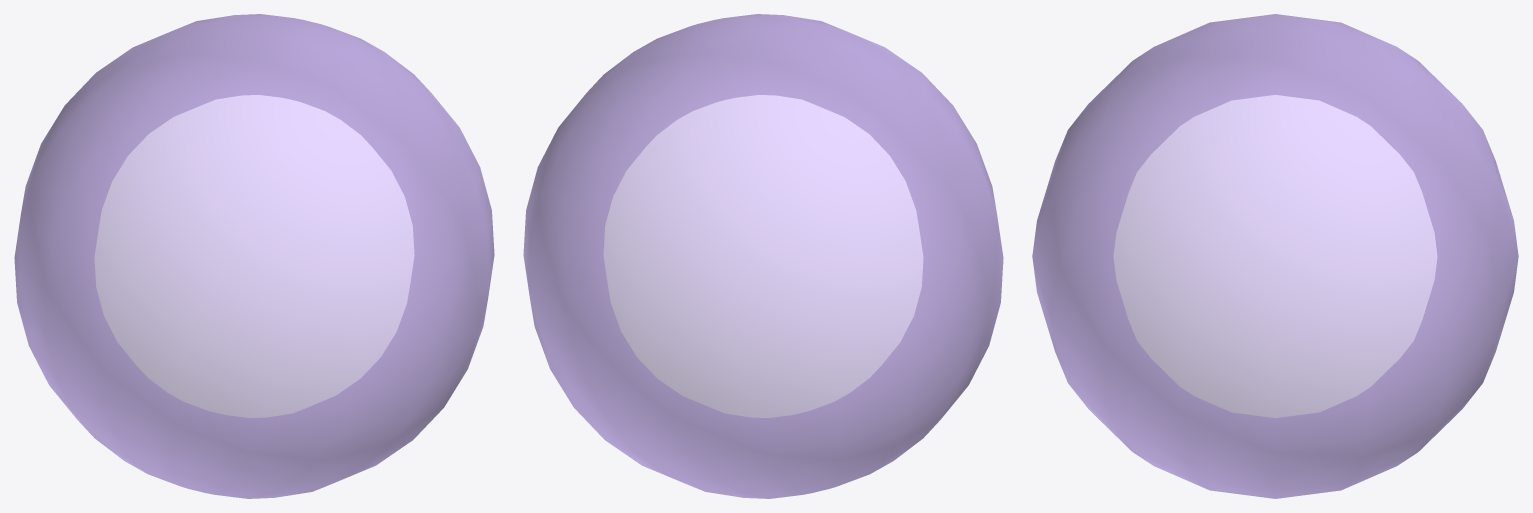
Rendered from tube1orb4.glb.
The picture shows the model from 3 angles, left to right: view 1: azimuth 30°, elevation 25°; view 2: azimuth 150°, elevation 25°; view 3: azimuth 270°, elevation 25°; orthographic projection.
Parts seen in each view (by area): view 1: orboutside4, orbinside4; view 2: orboutside4, orbinside4; view 3: orboutside4, orbinside4.
Boxes of the visible parts, x1,y1,x2,y2 form: orboutside4: [14, 14, 494, 498]; orbinside4: [94, 95, 414, 417]; orboutside4: [523, 14, 1003, 498]; orbinside4: [603, 95, 923, 417]; orboutside4: [1032, 14, 1518, 498]; orbinside4: [1113, 95, 1437, 417].
Bounding box in the file's own units: 0.5982 × 0.5982 × 0.6.
